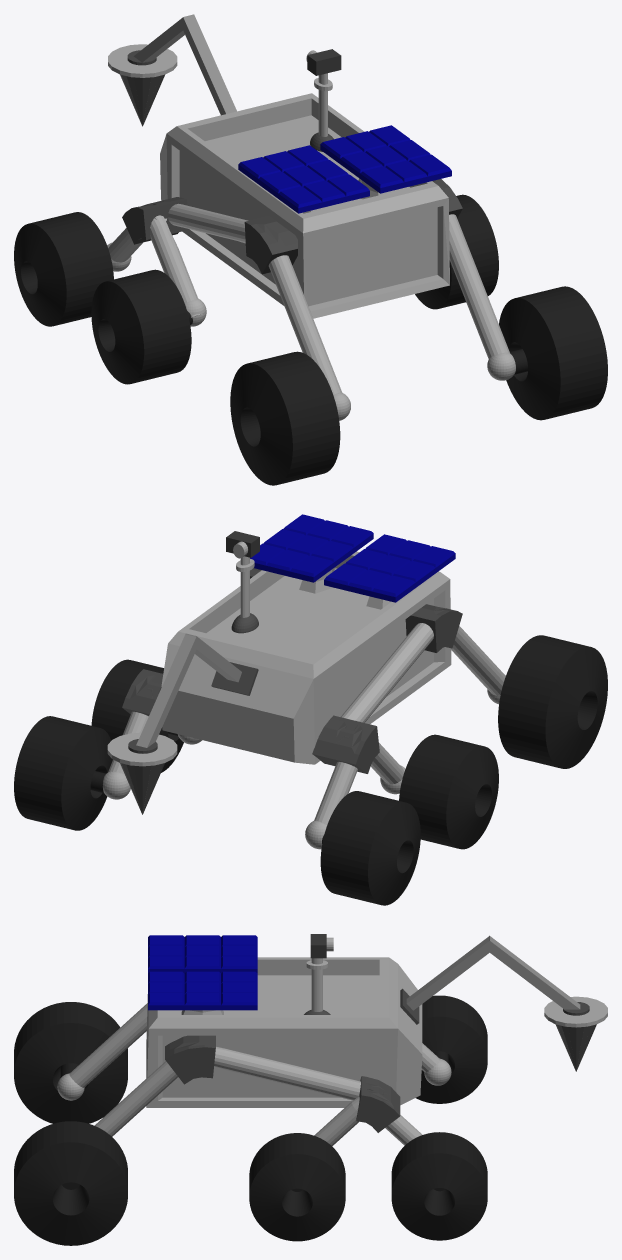
The model's file is Mars Miner.obj.
3 renders of one model, top to bottom at view 1: azimuth 30°, elevation 25°; view 2: azimuth 150°, elevation 25°; view 3: azimuth 270°, elevation 25°, orthographic. The views are drawn at different scales.
Visible parts, largest first — view 1: Box004_1, Mesh01, rodaa001_1, roda1, Mesh02, Box006_1, Box006_2, roda001_1, Cylinder10, Cylinder04, Cylinder01, Box001_1 (+9 smaller); view 2: Box004_1, Mesh01, Mesh02, rodaa002_1, roda1, Box006_1, Box006_2, Cylinder05, roda001_1, Cylinder01, Box014_1, Box003_1 (+12 smaller); view 3: Box004_1, rodaa001_1, Mesh01, roda001_1, rodaa002_1, Mesh02, Box006_2, Box006_1, Cylinder13, Cylinder01, Cylinder04, Box007_1 (+11 smaller).
Part boxes in pixels (left/top/right/bottom): Box004_1: left=160, top=93, right=449, bottom=318; Mesh01: left=230, top=351, right=340, bottom=485; rodaa001_1: left=499, top=286, right=607, bottom=420; roda1: left=91, top=269, right=192, bottom=384; Mesh02: left=14, top=212, right=113, bottom=326; Box006_1: left=238, top=145, right=369, bottom=213; Box006_2: left=320, top=125, right=451, bottom=193; roda001_1: left=415, top=194, right=498, bottom=309; Cylinder10: left=449, top=214, right=509, bottom=358; Cylinder04: left=268, top=255, right=341, bottom=394; Cylinder01: left=108, top=44, right=177, bottom=126; Box001_1: left=244, top=216, right=297, bottom=274; Box004_1: left=161, top=551, right=451, bottom=764; Mesh01: left=498, top=635, right=607, bottom=768; Mesh02: left=320, top=791, right=420, bottom=905; rodaa002_1: left=14, top=716, right=112, bottom=830; roda1: left=399, top=734, right=498, bottom=849; Box006_1: left=324, top=534, right=455, bottom=602; Box006_2: left=250, top=514, right=373, bottom=582; Cylinder05: left=340, top=623, right=433, bottom=722; roda001_1: left=91, top=659, right=183, bottom=772; Cylinder01: left=107, top=732, right=177, bottom=814; Box014_1: left=136, top=633, right=199, bottom=747; Box003_1: left=328, top=719, right=379, bottom=773; Box004_1: left=146, top=957, right=422, bottom=1107; rodaa001_1: left=14, top=1121, right=127, bottom=1245; Mesh01: left=14, top=1002, right=127, bottom=1123; roda001_1: left=249, top=1133, right=345, bottom=1241; rodaa002_1: left=391, top=1132, right=487, bottom=1240; Mesh02: left=416, top=995, right=487, bottom=1103; Box006_2: left=148, top=971, right=257, bottom=1010; Box006_1: left=148, top=935, right=257, bottom=973; Cylinder13: left=214, top=1046, right=360, bottom=1100; Cylinder01: left=544, top=996, right=607, bottom=1071; Cylinder04: left=69, top=1003, right=147, bottom=1087; Box007_1: left=165, top=1035, right=215, bottom=1084.
Bounding box in the file's own units: 114 × 80.33 × 170.
